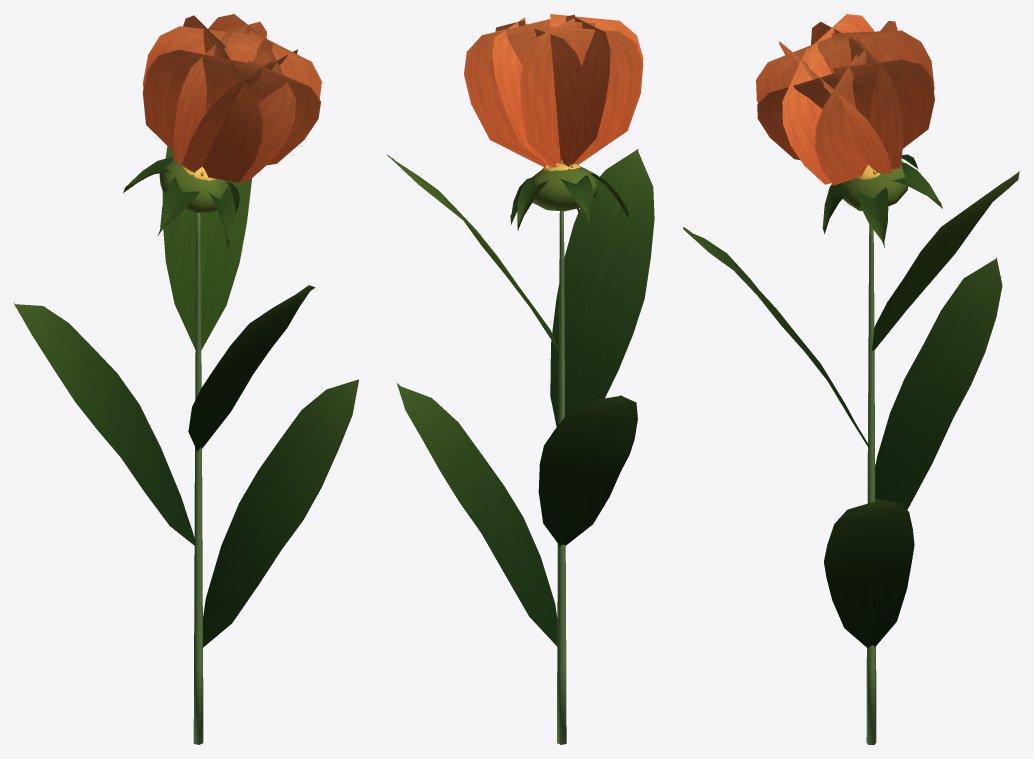
File: tulip-09-lod.glb
The picture shows the model from 3 angles, left to right: view 1: azimuth 30°, elevation 25°; view 2: azimuth 150°, elevation 25°; view 3: azimuth 270°, elevation 25°; orthographic projection.
Parts seen in each view (by area): view 1: tulip_stage_09_leaf_veins.017, tulip_stage_09_tulip_petal.017, tulip_stage_09_young_leaf.017, tulip_stage_09_stem_fibres.017; view 2: tulip_stage_09_leaf_veins.017, tulip_stage_09_tulip_petal.017, tulip_stage_09_stem_fibres.017, tulip_stage_09_young_leaf.017; view 3: tulip_stage_09_leaf_veins.017, tulip_stage_09_tulip_petal.017, tulip_stage_09_young_leaf.017, tulip_stage_09_stem_fibres.017.
Part boxes in pixels (bbox=[...]): tulip_stage_09_leaf_veins.017: bbox=[14, 157, 358, 647]; tulip_stage_09_tulip_petal.017: bbox=[142, 14, 321, 182]; tulip_stage_09_young_leaf.017: bbox=[159, 146, 251, 349]; tulip_stage_09_stem_fibres.017: bbox=[193, 213, 203, 744]; tulip_stage_09_leaf_veins.017: bbox=[397, 149, 654, 646]; tulip_stage_09_tulip_petal.017: bbox=[464, 14, 643, 167]; tulip_stage_09_stem_fibres.017: bbox=[557, 211, 566, 744]; tulip_stage_09_young_leaf.017: bbox=[387, 154, 599, 353]; tulip_stage_09_leaf_veins.017: bbox=[683, 154, 1002, 648]; tulip_stage_09_tulip_petal.017: bbox=[756, 14, 934, 185]; tulip_stage_09_young_leaf.017: bbox=[841, 160, 1019, 351]; tulip_stage_09_stem_fibres.017: bbox=[866, 224, 876, 744].
Size of the model in its own units: 0.2517 by 0.6037 by 0.256.
Materials: 5 (3 with a texture image).
